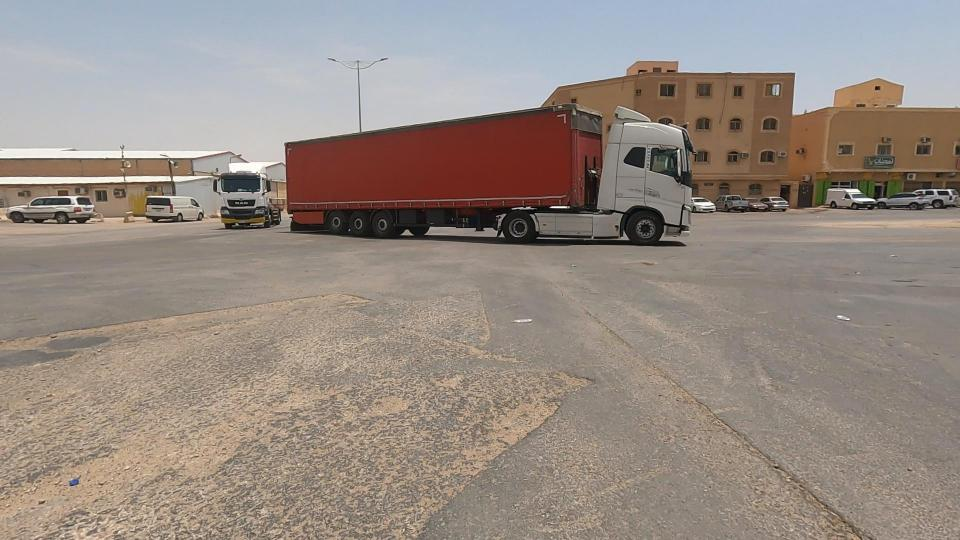GARBAGE: (805, 286, 880, 350), (482, 299, 557, 346)
POTHOLES: (309, 258, 692, 540), (0, 309, 369, 540)
